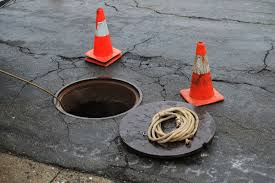Manhole-Open: (49, 69, 164, 123)
